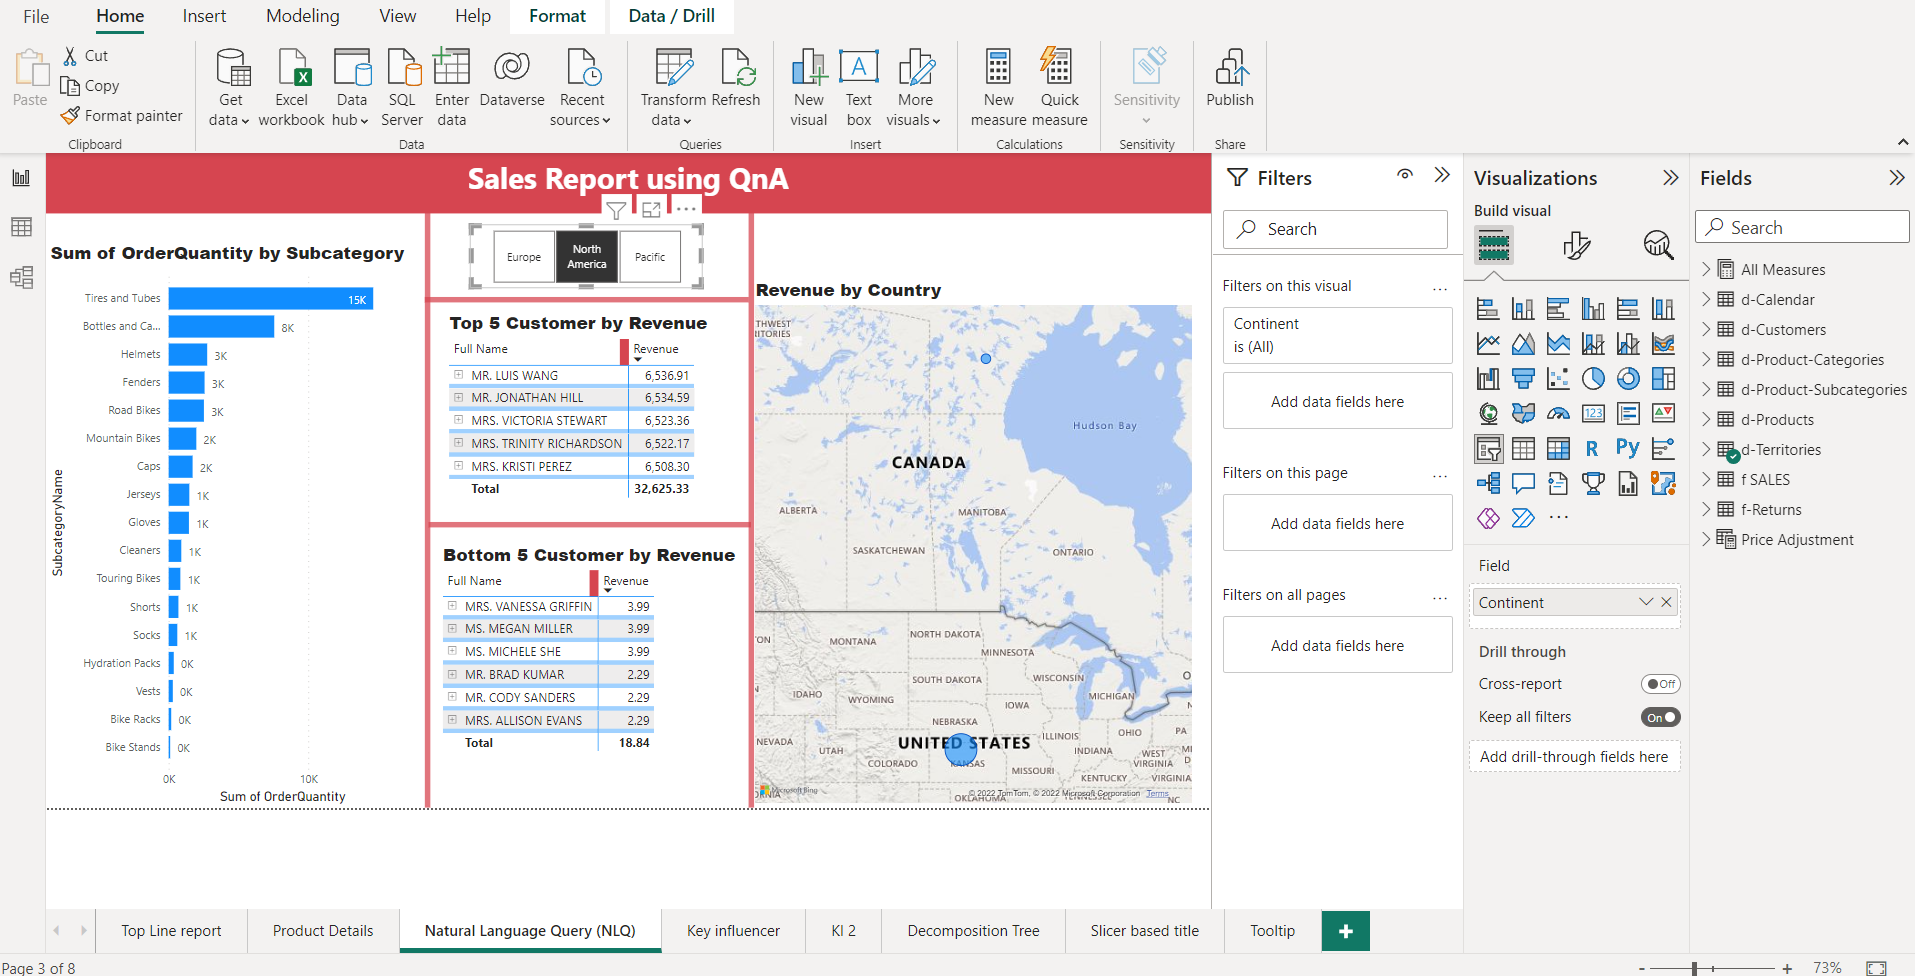

What the dashboard file says about the page in this screenshot:
{"tool":"powerbi","page":{"name":"Natural Language Query (NLQ) ","canvas":[1280,720],"ordinal":2},"visuals":[{"type":"clusteredBarChart","title":"Sum of OrderQuantity by Subcategory","fields":{"Category":["d-Product-Subcategories.SubcategoryName"],"Y":["Sum(f SALES.OrderQuantity)"]},"box":[0,95.8,399.9,623.8],"z":0},{"type":"shape","box":[399.9,0,38.8,719.6],"z":1000},{"type":"pivotTable","title":"Top 5 Customer by Revenue","fields":{"Rows":["d-Customers.Full Name","d-Customers.CustomerKey","d-Customers.BirthDate","d-Customers.MaritalStatus","d-Customers.Gender","d-Customers.EmailAddress","d-Customers.AnnualIncome","d-Customers.TotalChildren","d-Customers.EducationLevel","d-Customers.Occupation","d-Customers.HomeOwner"],"Values":["All Measures.Revenue"]},"box":[438.7,173.4,308,223.9],"z":2000},{"type":"shape","box":[420.6,383.1,355.9,50.5],"z":3000},{"type":"pivotTable","title":"Bottom 5 Customer by Revenue","fields":{"Rows":["d-Customers.Full Name","d-Customers.CustomerKey","d-Customers.BirthDate","d-Customers.MaritalStatus","d-Customers.Gender","d-Customers.EmailAddress","d-Customers.AnnualIncome","d-Customers.TotalChildren","d-Customers.EducationLevel","d-Customers.Occupation","d-Customers.HomeOwner"],"Values":["All Measures.Revenue"]},"box":[431,427.1,336.5,292.5],"z":4000},{"type":"map","fields":{"Category":["d-Territories.Country"],"Size":["All Measures.Revenue"]},"box":[775.2,135.9,489.2,583.7],"z":5000},{"type":"shape","box":[755.8,0,38.8,719.6],"z":6000},{"type":"textbox","box":[0,0,1280,66],"z":7000},{"type":"shape","box":[416.7,135.9,355.9,50.5],"z":8000},{"type":"slicer","fields":{"Values":["d-Territories.Continent"]},"box":[465.9,77.7,255.7,71],"z":9000}]}

Visuals, with their boxes on the page's 1280x720 design canvas (x1, y1, x2, y2). These are canvas units, not pixel positions in the 1915x976 screenshot, which may show the page scaled, cropped or inside an application window:
"Sum of OrderQuantity by Subcategory" clusteredBarChart: box=[0, 96, 400, 720]
shape: box=[400, 0, 439, 720]
"Top 5 Customer by Revenue" pivotTable: box=[439, 173, 747, 397]
shape: box=[421, 383, 776, 434]
"Bottom 5 Customer by Revenue" pivotTable: box=[431, 427, 768, 720]
map - d-Territories.Country x All Measures.Revenue: box=[775, 136, 1264, 720]
shape: box=[756, 0, 795, 720]
textbox: box=[0, 0, 1280, 66]
shape: box=[417, 136, 773, 186]
slicer - d-Territories.Continent: box=[466, 78, 722, 149]
